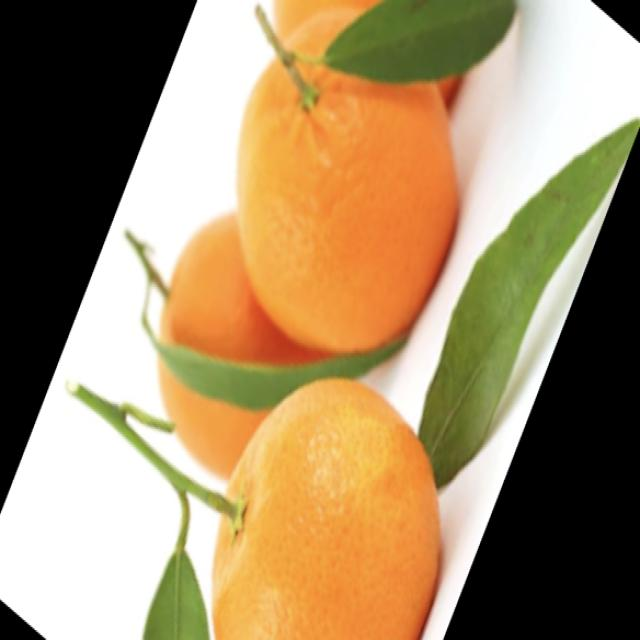orange: (230, 40, 446, 353)
